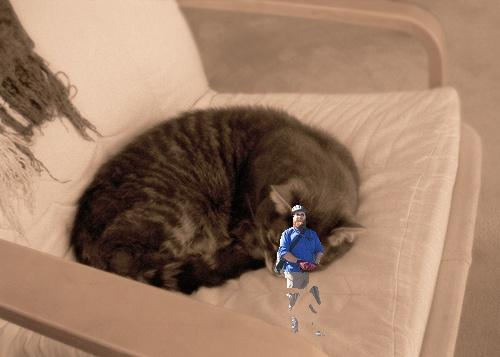tampered: (274, 206, 328, 336)
